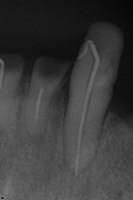Furcation Involvement: (28, 133, 46, 144)
